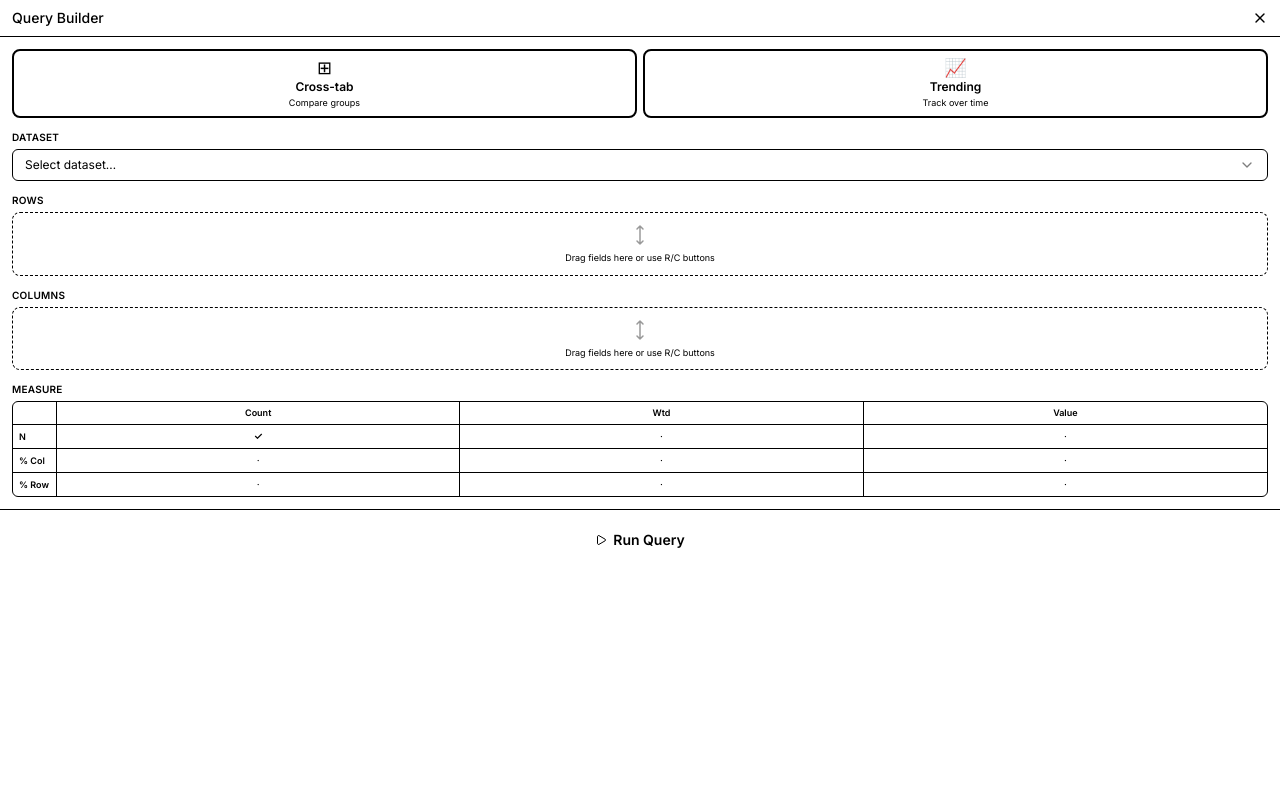
QueryBuilderPanel › shows error when Run clicked without a dataset in crosstab mode
Click the button "Run Query" at (640, 540), box [12, 522, 1268, 558]
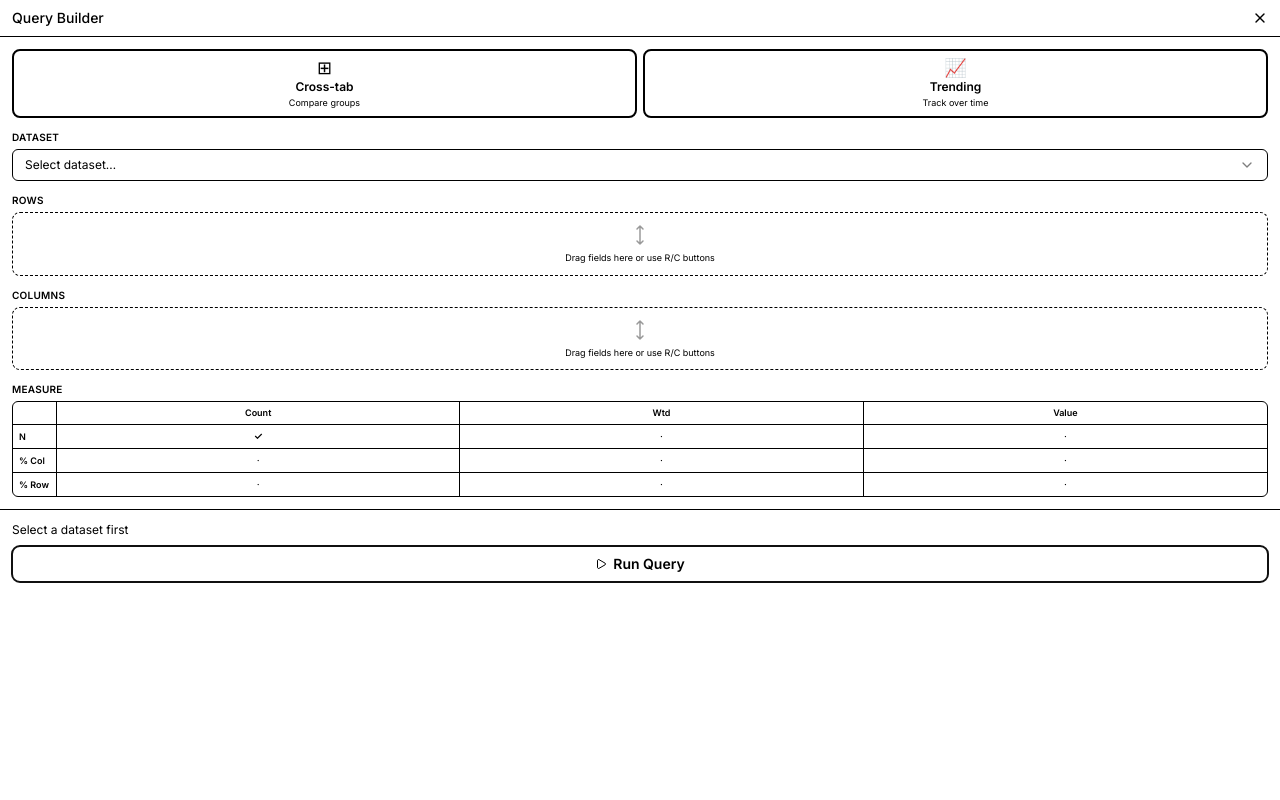
Now the text "Select a dataset first" is shown, box [12, 522, 128, 537]
